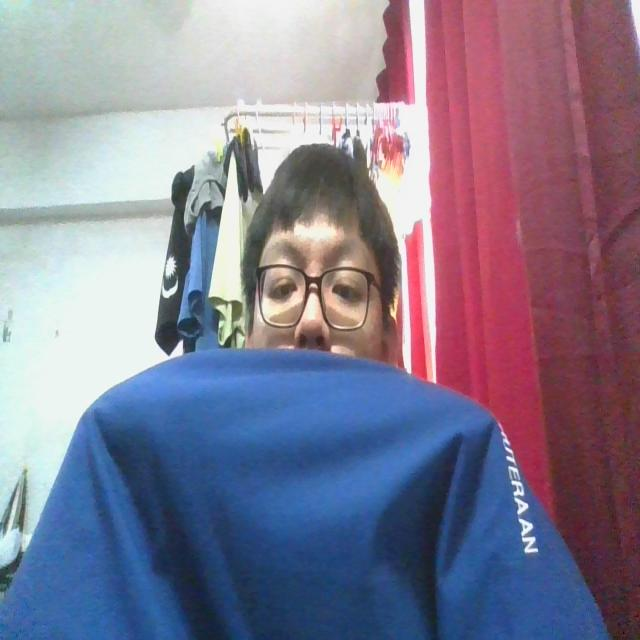person_without_labcoat: (0, 144, 610, 639)
